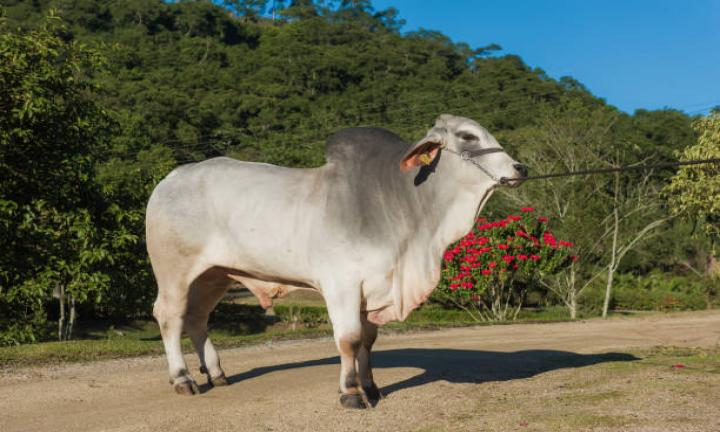Brahman: (146, 114, 525, 407)
